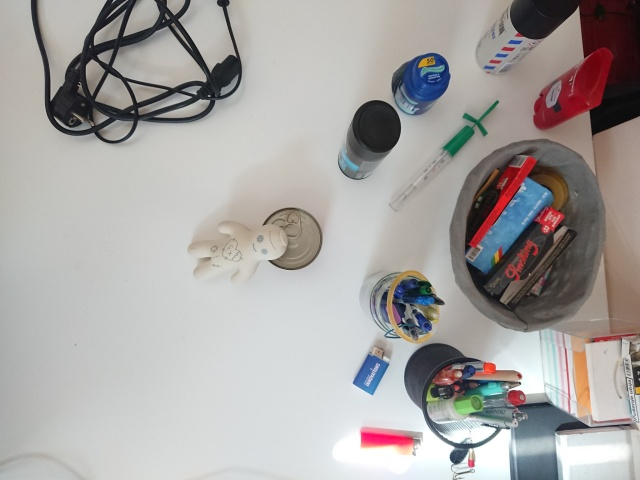Gavrilovic Pork Liver Pate 100g: (260, 206, 324, 272)
